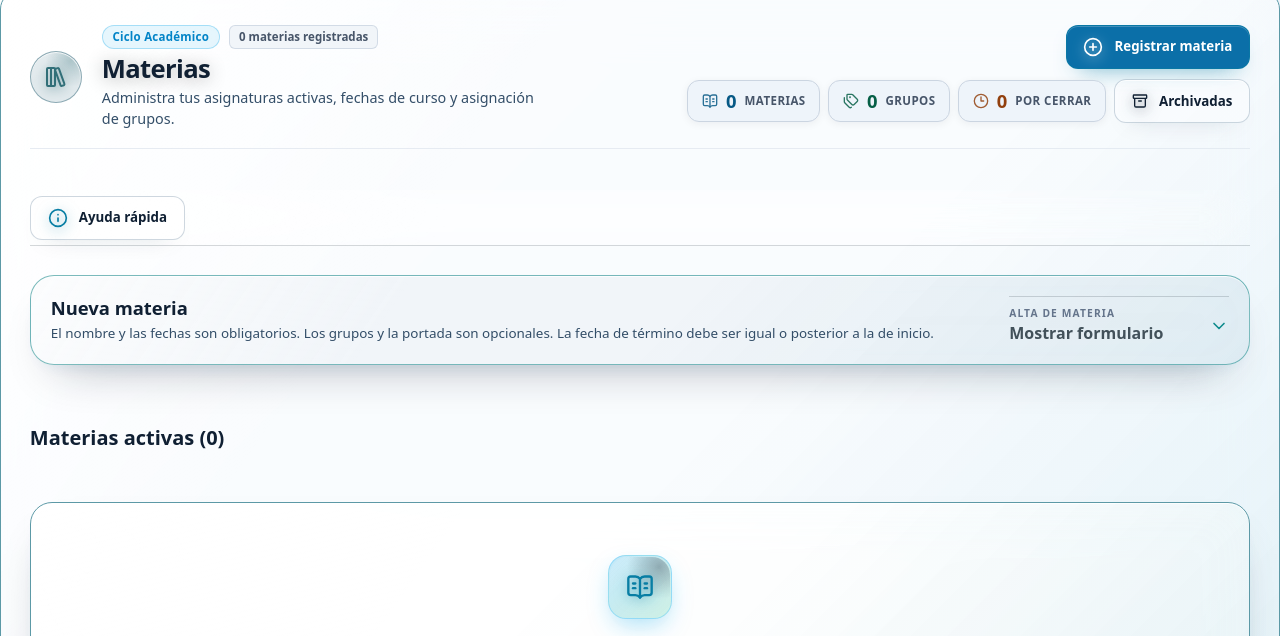
Test: SeccionPeriodos edición › explica por qué el alta está deshabilitada y retira la ayuda cuando los campos son válidos
This screenshot has width=1280, height=636.
Click the button "Registrar materia": (1158, 47) [1066,25,1250,69]
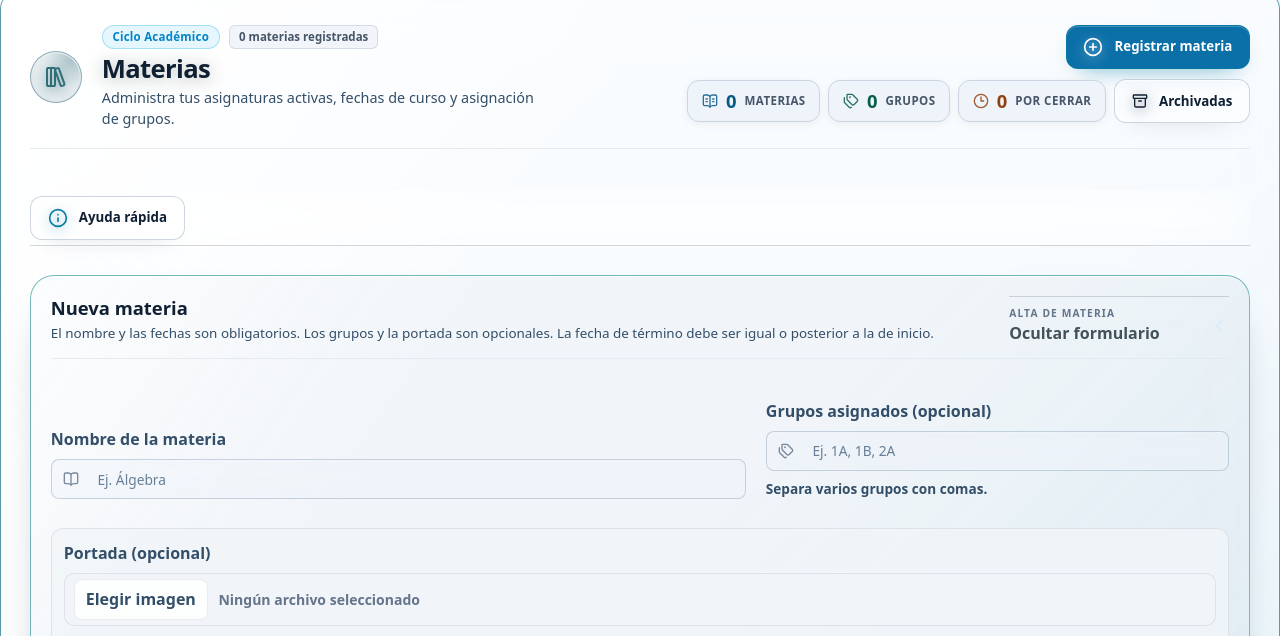
In the field labelled "Nombre de la materia": (398, 479) [51,459,746,499], type "Matemáticas I"
(page scrolled)
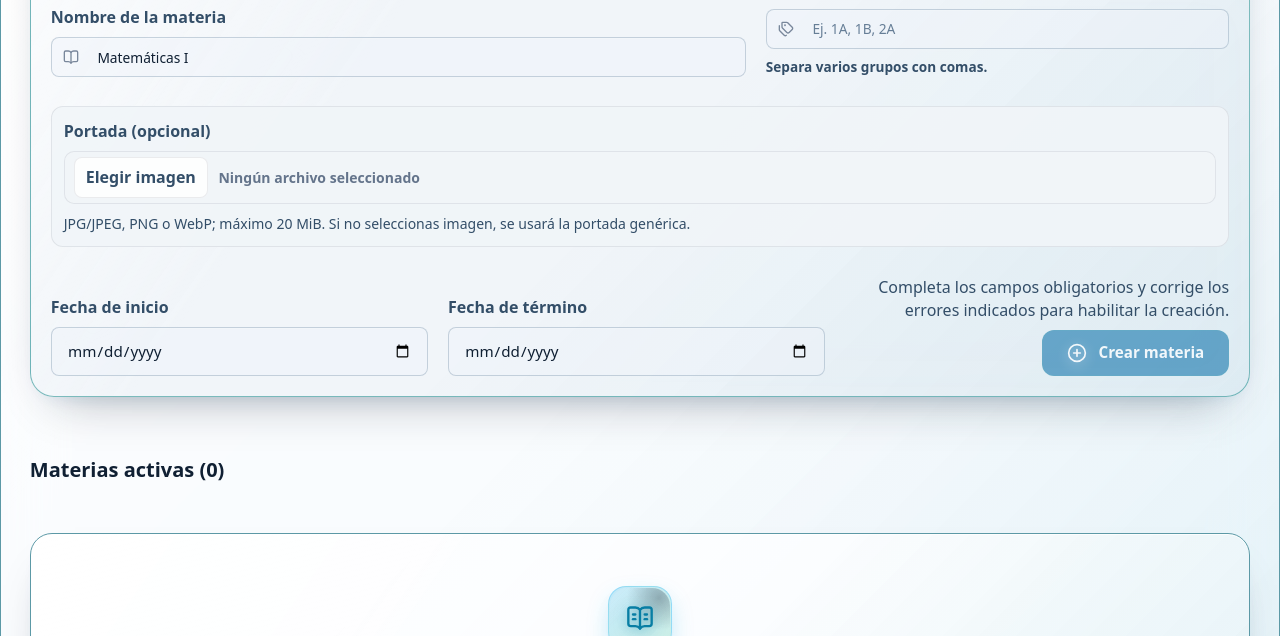
In the date field labelled "Fecha de inicio": (239, 351) [51,327,428,376], type "2026-08-01"
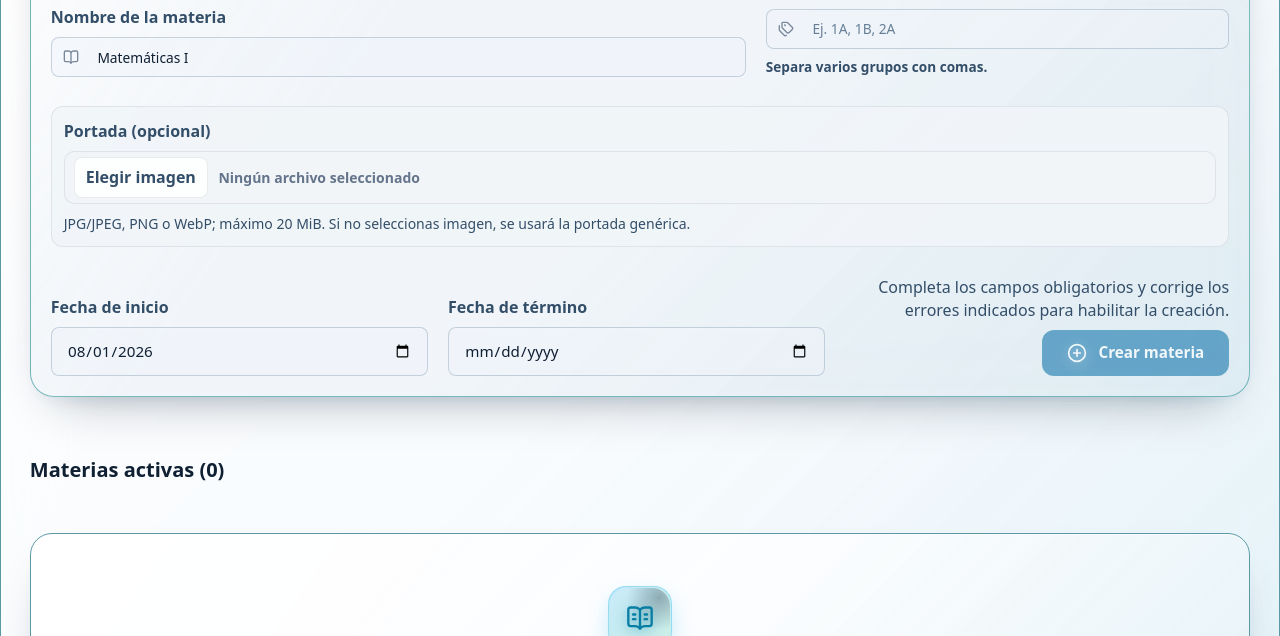
In the date field labelled "Fecha de término": (637, 351) [448,327,825,376], type "2026-12-18"
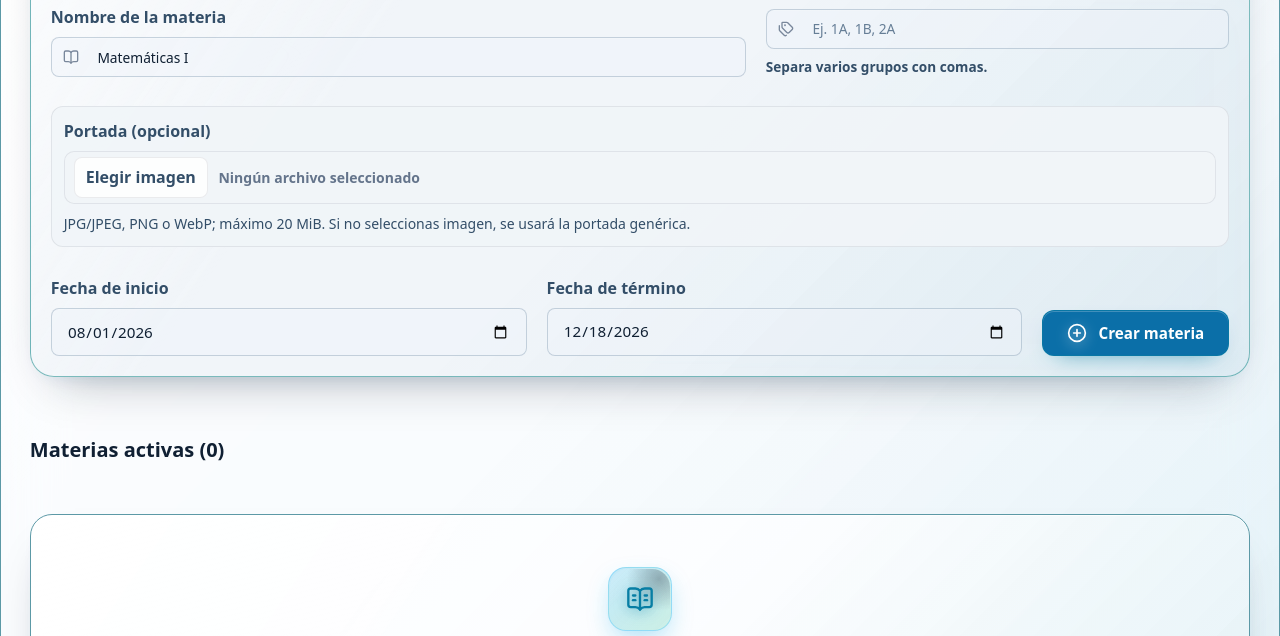
Now the text "Completa los campos obligatorios y corrige los errores indicados para habilitar la creación." is gone
Now the button "Crear materia" is enabled, box [1042,310,1229,356]
